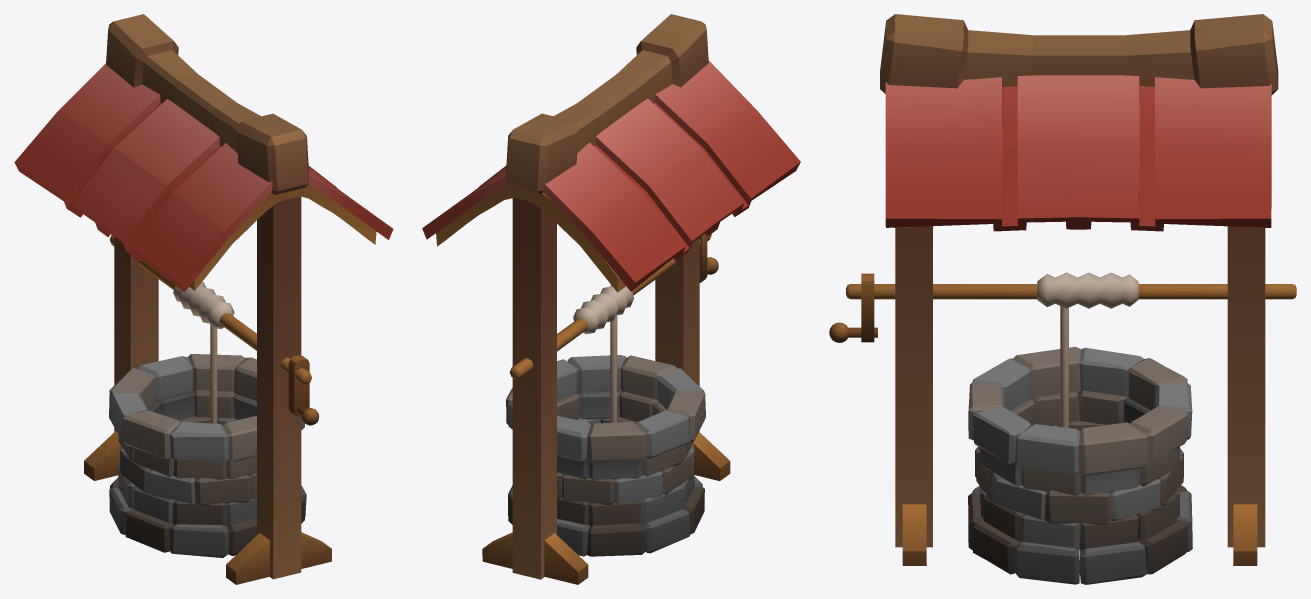
The model's file is obj_Well.fbx.
3 renders of one model, left to right at view 1: azimuth 30°, elevation 25°; view 2: azimuth 150°, elevation 25°; view 3: azimuth 270°, elevation 25°, orthographic. The views are drawn at different scales.
Visible parts, largest first — view 1: obj_Well; view 2: obj_Well; view 3: obj_Well.
Boxes of the visible parts, x1=… form: obj_Well: x1=14, y1=14, x2=393, y2=584; obj_Well: x1=422, y1=14, x2=800, y2=584; obj_Well: x1=829, y1=14, x2=1296, y2=584.
Size of the model in its own units: 77.51 by 154 by 126.
